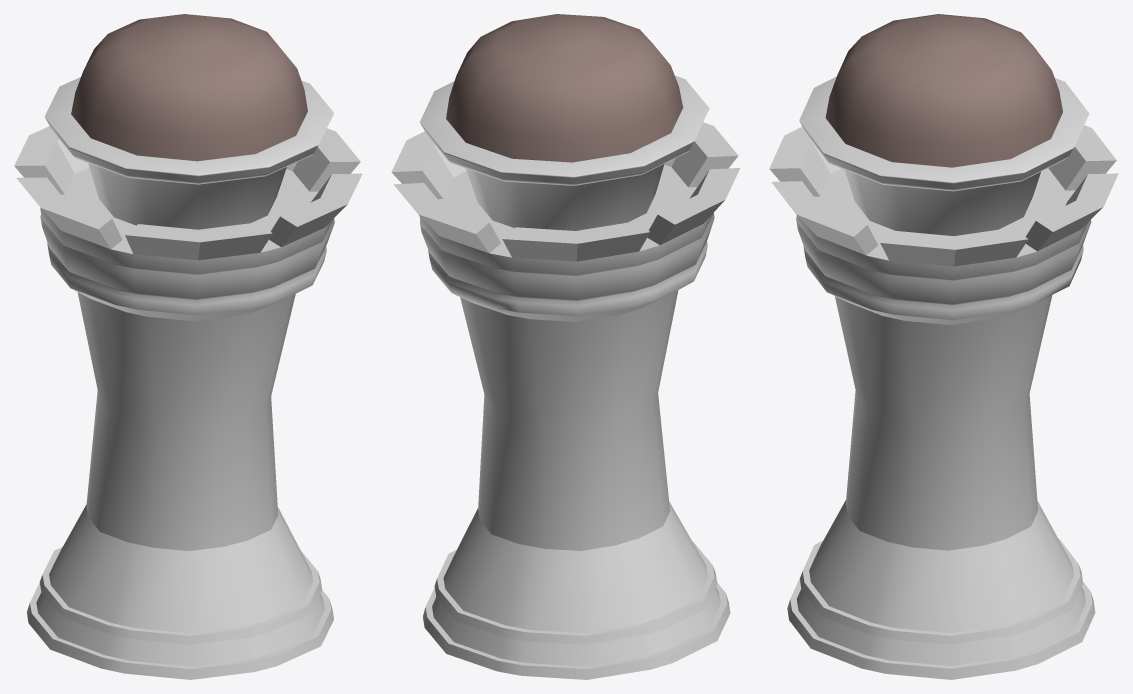
File: SM_Tower (7).fbx
3 views of the same model, side by side, from view 1: azimuth 30°, elevation 25°; view 2: azimuth 150°, elevation 25°; view 3: azimuth 270°, elevation 25° (orthographic).
Parts seen in each view (by area): view 1: SM_Tower_1, SM_TowerTop, SM_TowerMiddle; view 2: SM_Tower_1, SM_TowerTop, SM_TowerMiddle; view 3: SM_Tower_1, SM_TowerTop, SM_TowerMiddle.
Boxes of the visible parts, <box> form: SM_Tower_1: <box>14,126,362,679</box>; SM_TowerTop: <box>71,14,307,161</box>; SM_TowerMiddle: <box>44,77,333,229</box>; SM_Tower_1: <box>391,122,740,679</box>; SM_TowerTop: <box>446,14,683,162</box>; SM_TowerMiddle: <box>420,75,709,230</box>; SM_Tower_1: <box>769,125,1118,679</box>; SM_TowerTop: <box>825,14,1062,167</box>; SM_TowerMiddle: <box>799,76,1089,236</box>.
Bounding box in the file's own units: 936 × 1702 × 921.
